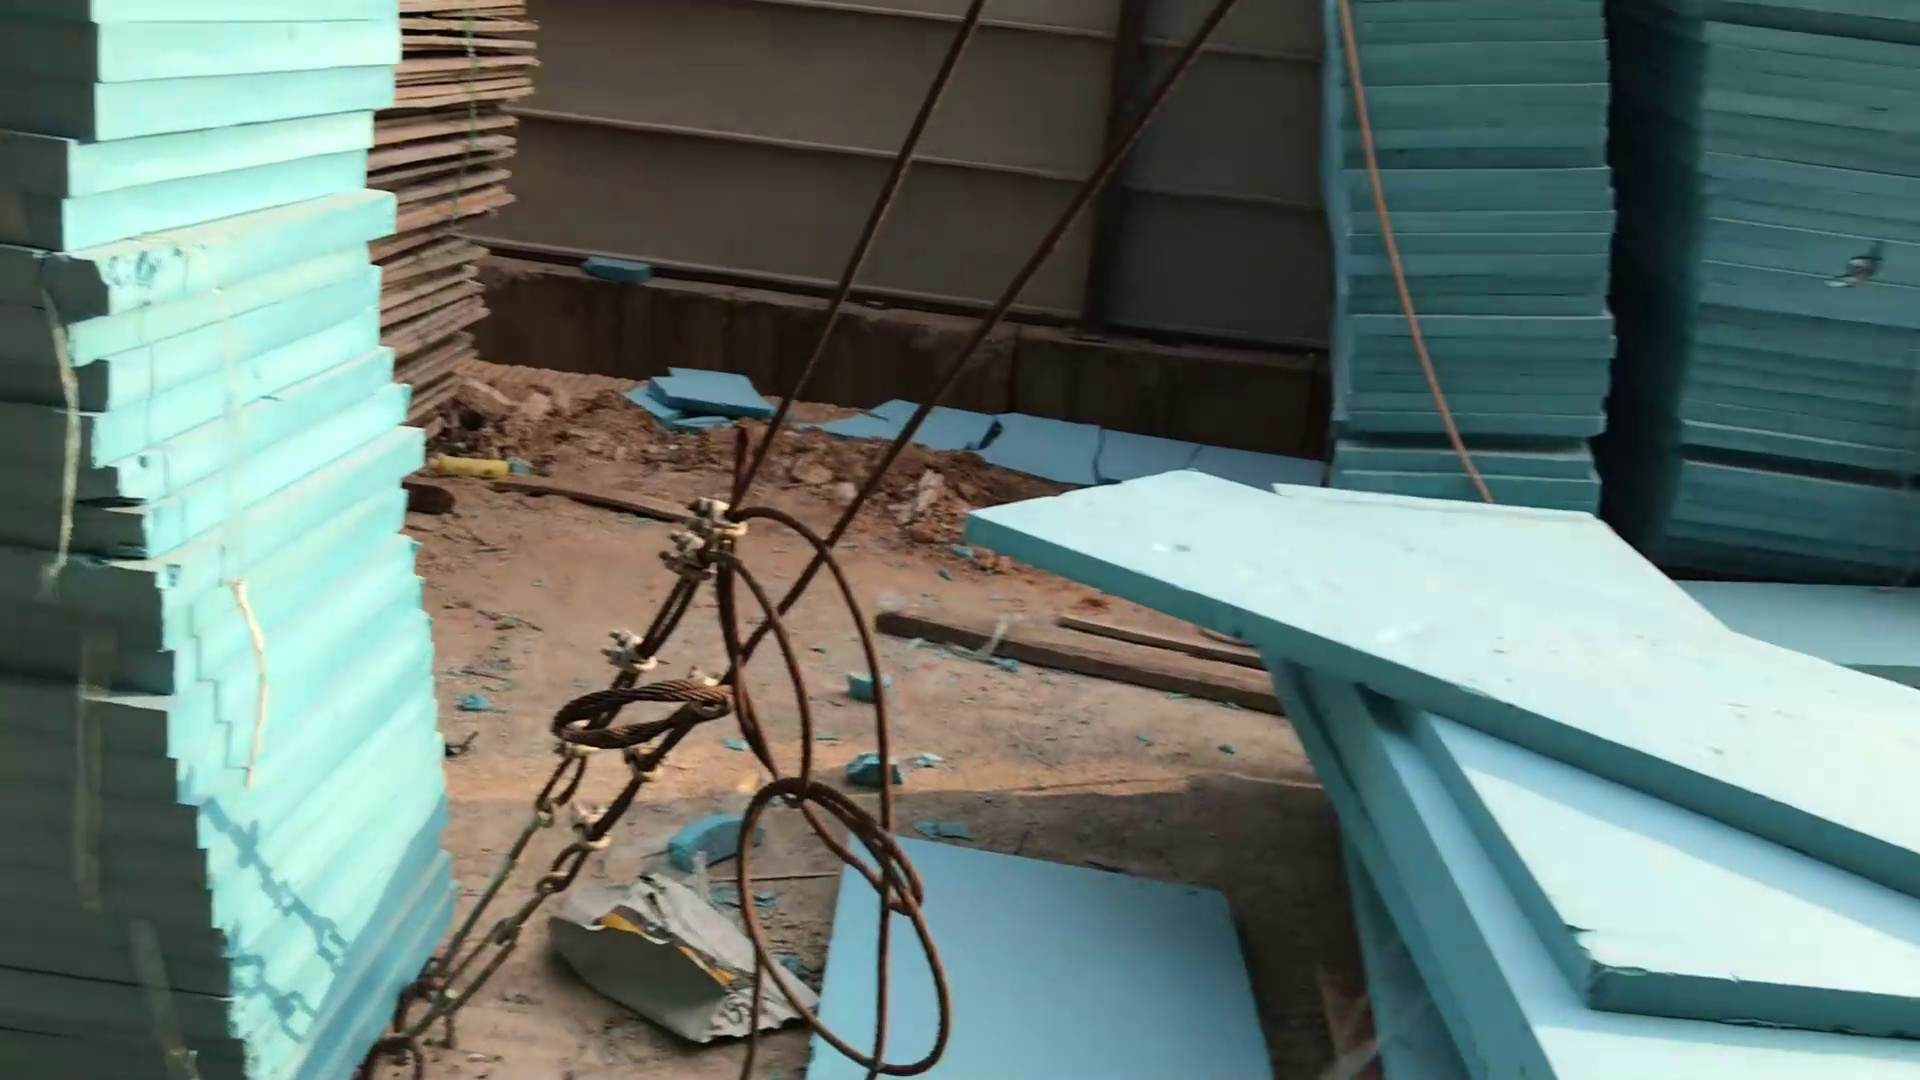board: (378, 1, 545, 452)
